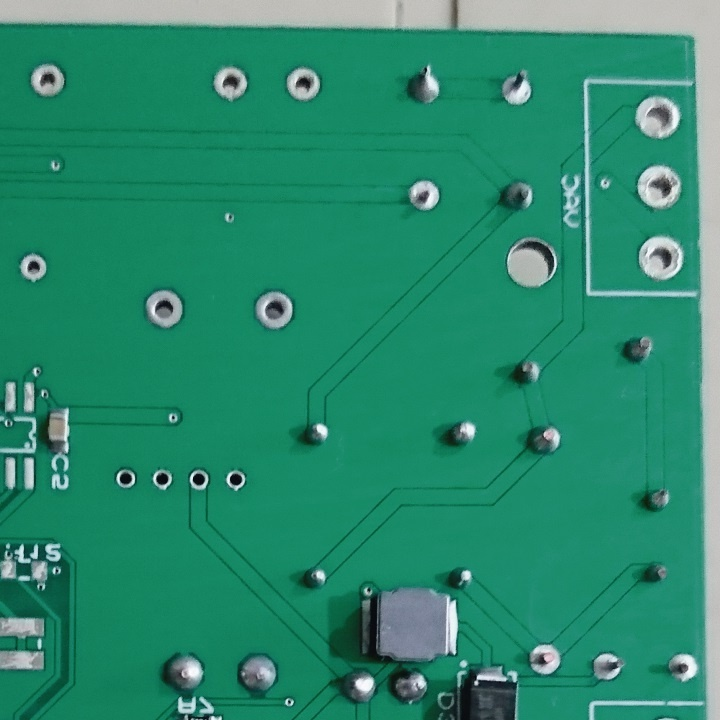F: (631, 92, 684, 142), (636, 232, 686, 284), (633, 161, 684, 210), (142, 286, 185, 329), (254, 288, 295, 329), (282, 64, 323, 103), (26, 61, 69, 98), (210, 63, 250, 101), (499, 69, 536, 106), (527, 641, 564, 677), (407, 177, 443, 213), (664, 650, 700, 685), (590, 652, 626, 683), (18, 250, 49, 282), (224, 466, 249, 495), (112, 465, 139, 490), (149, 465, 173, 493), (186, 466, 210, 493)
